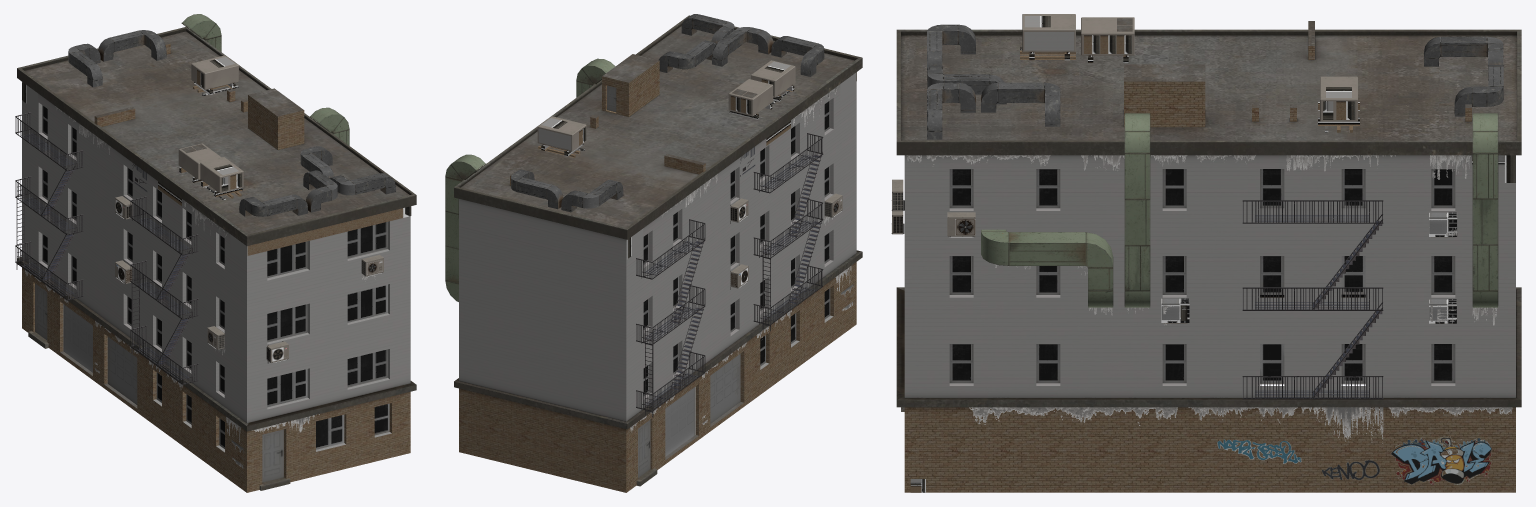
File: house.fbx
3 renders of one model, left to right at view 1: azimuth 30°, elevation 25°; view 2: azimuth 150°, elevation 25°; view 3: azimuth 270°, elevation 25°, orthographic. The views are drawn at different scales.
Visible parts, largest first — view 1: polySurface142, polySurface139, polySurface223, polySurface141, polySurface222, polySurface219, polySurface227, polySurface140, polySurface266, polySurface220, polySurface172, polySurface180 (+28 smaller); view 2: polySurface142, polySurface223, polySurface139, polySurface222, polySurface141, polySurface219, polySurface227, polySurface478, polySurface140, polySurface172, polySurface180, polySurface220 (+19 smaller); view 3: polySurface223, polySurface139, polySurface222, polySurface219, polySurface220, polySurface477, polySurface478, polySurface479, polySurface227, polySurface233, polySurface484, polySurface327 (+36 smaller).
Part boxes in pixels (bbox=[...]): polySurface142: bbox=[22, 93, 246, 422]; polySurface139: bbox=[17, 31, 409, 245]; polySurface223: bbox=[247, 216, 410, 422]; polySurface141: bbox=[22, 267, 246, 492]; polySurface222: bbox=[247, 392, 410, 492]; polySurface219: bbox=[17, 27, 416, 245]; polySurface227: bbox=[248, 88, 304, 149]; polySurface140: bbox=[17, 258, 248, 431]; polySurface266: bbox=[247, 206, 411, 255]; polySurface220: bbox=[17, 256, 416, 431]; polySurface172: bbox=[107, 336, 137, 404]; polySurface180: bbox=[63, 304, 92, 372]; polySurface142: bbox=[626, 84, 856, 421]; polySurface223: bbox=[459, 199, 626, 421]; polySurface139: bbox=[461, 26, 862, 239]; polySurface222: bbox=[459, 388, 626, 492]; polySurface141: bbox=[626, 262, 856, 492]; polySurface219: bbox=[454, 15, 861, 239]; polySurface227: bbox=[602, 54, 659, 116]; polySurface478: bbox=[445, 154, 485, 301]; polySurface140: bbox=[626, 251, 862, 429]; polySurface172: bbox=[710, 353, 740, 423]; polySurface180: bbox=[665, 386, 695, 456]; polySurface220: bbox=[454, 250, 861, 429]; polySurface223: bbox=[904, 155, 1515, 397]; polySurface139: bbox=[897, 29, 1520, 140]; polySurface222: bbox=[904, 407, 1515, 492]; polySurface219: bbox=[896, 29, 1521, 155]; polySurface220: bbox=[896, 287, 1521, 407]; polySurface477: bbox=[981, 229, 1113, 307]; polySurface478: bbox=[1472, 113, 1498, 307]; polySurface479: bbox=[1124, 113, 1150, 307]; polySurface227: bbox=[1124, 64, 1205, 127]; polySurface233: bbox=[1391, 434, 1491, 484]; polySurface484: bbox=[981, 82, 1060, 126]; polySurface327: bbox=[1242, 287, 1383, 310].
Size of the model in its own units: 1236 by 1707 by 2474.
